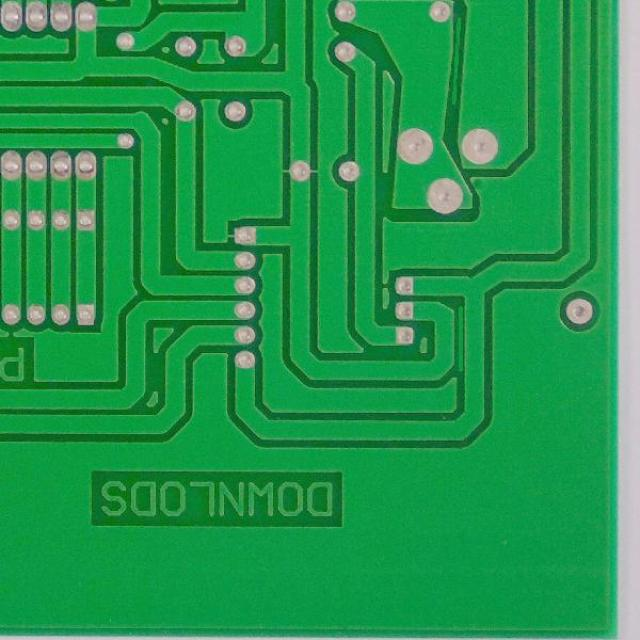Spurious_Cooper: (446, 14, 464, 113), (454, 304, 465, 377)
